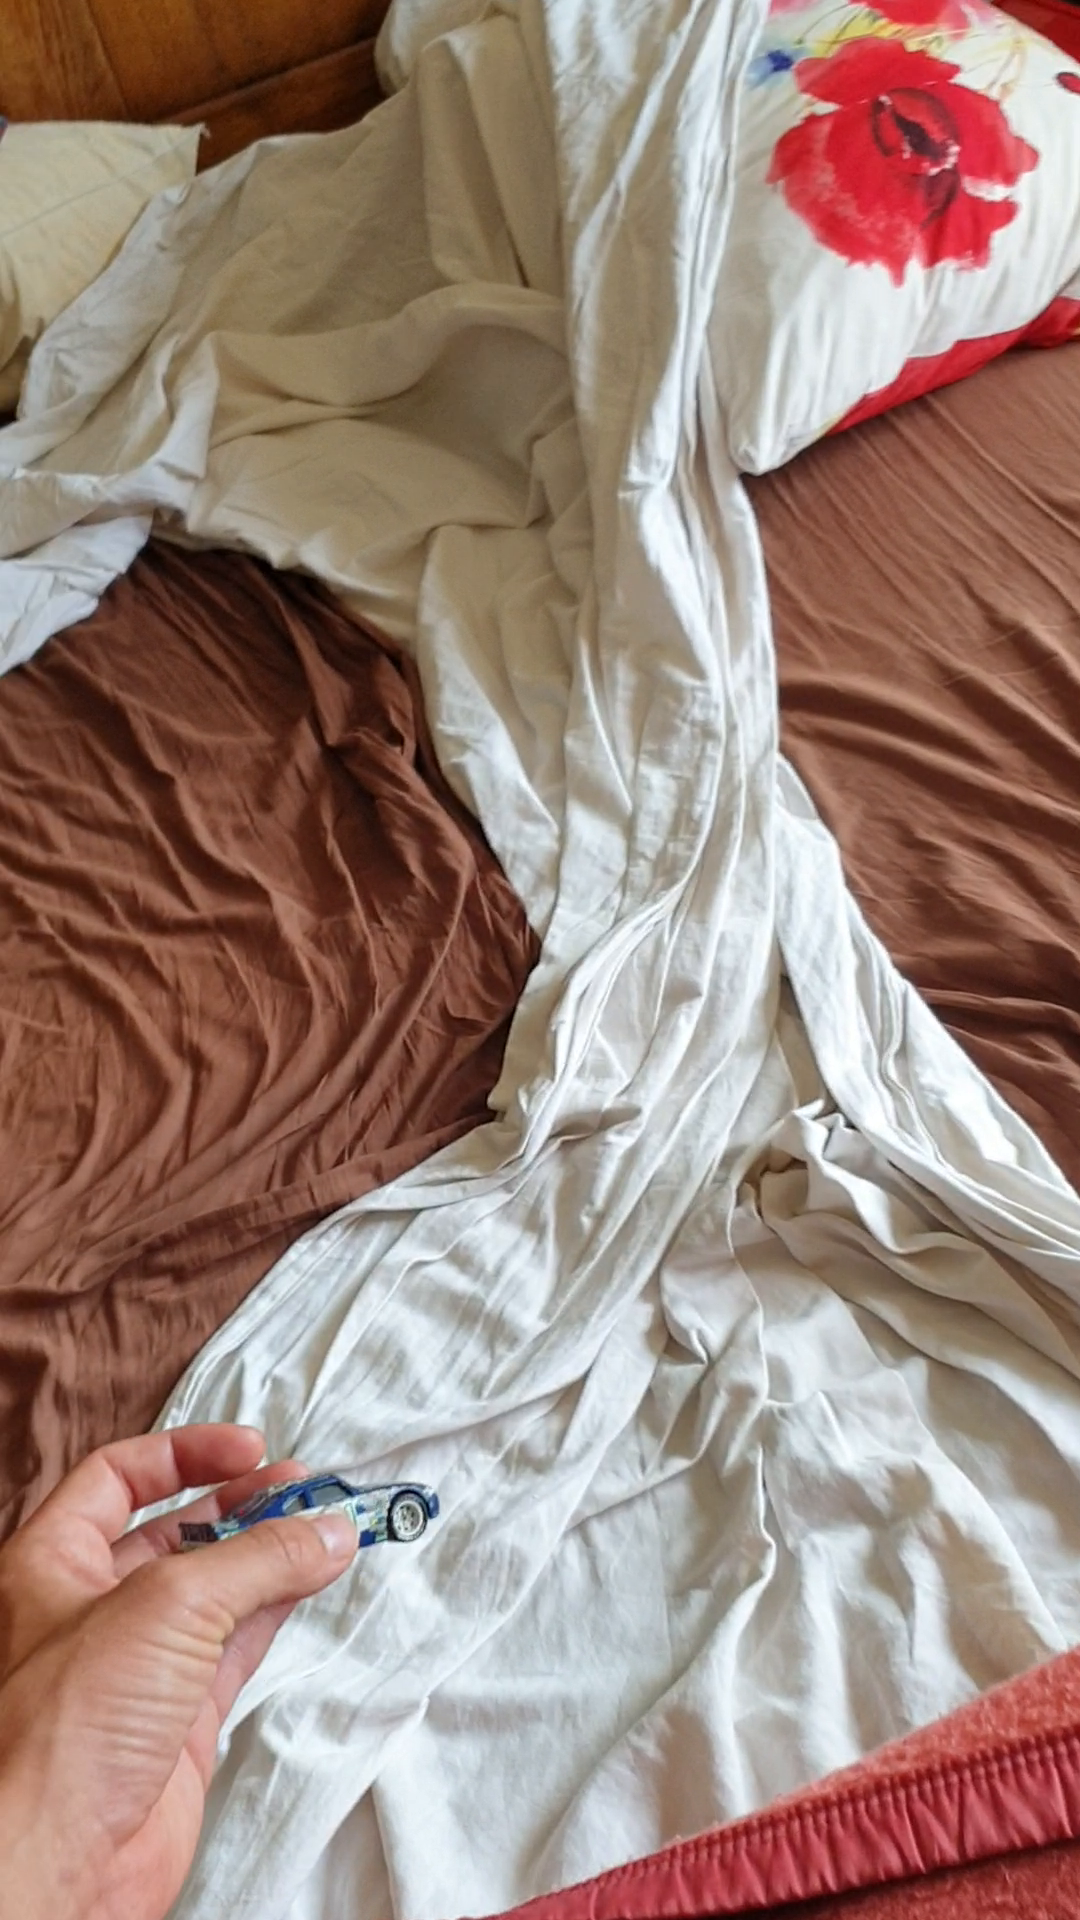cars: (185, 1455, 443, 1586)
